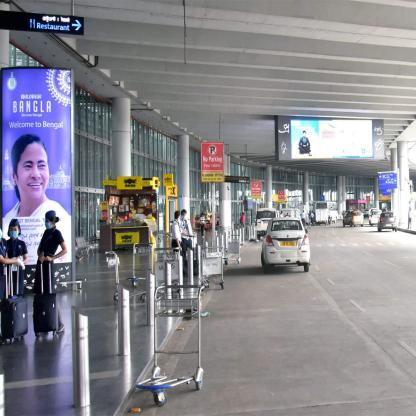airport-trolley: (135, 281, 206, 407), (198, 244, 230, 295), (222, 229, 243, 264)
